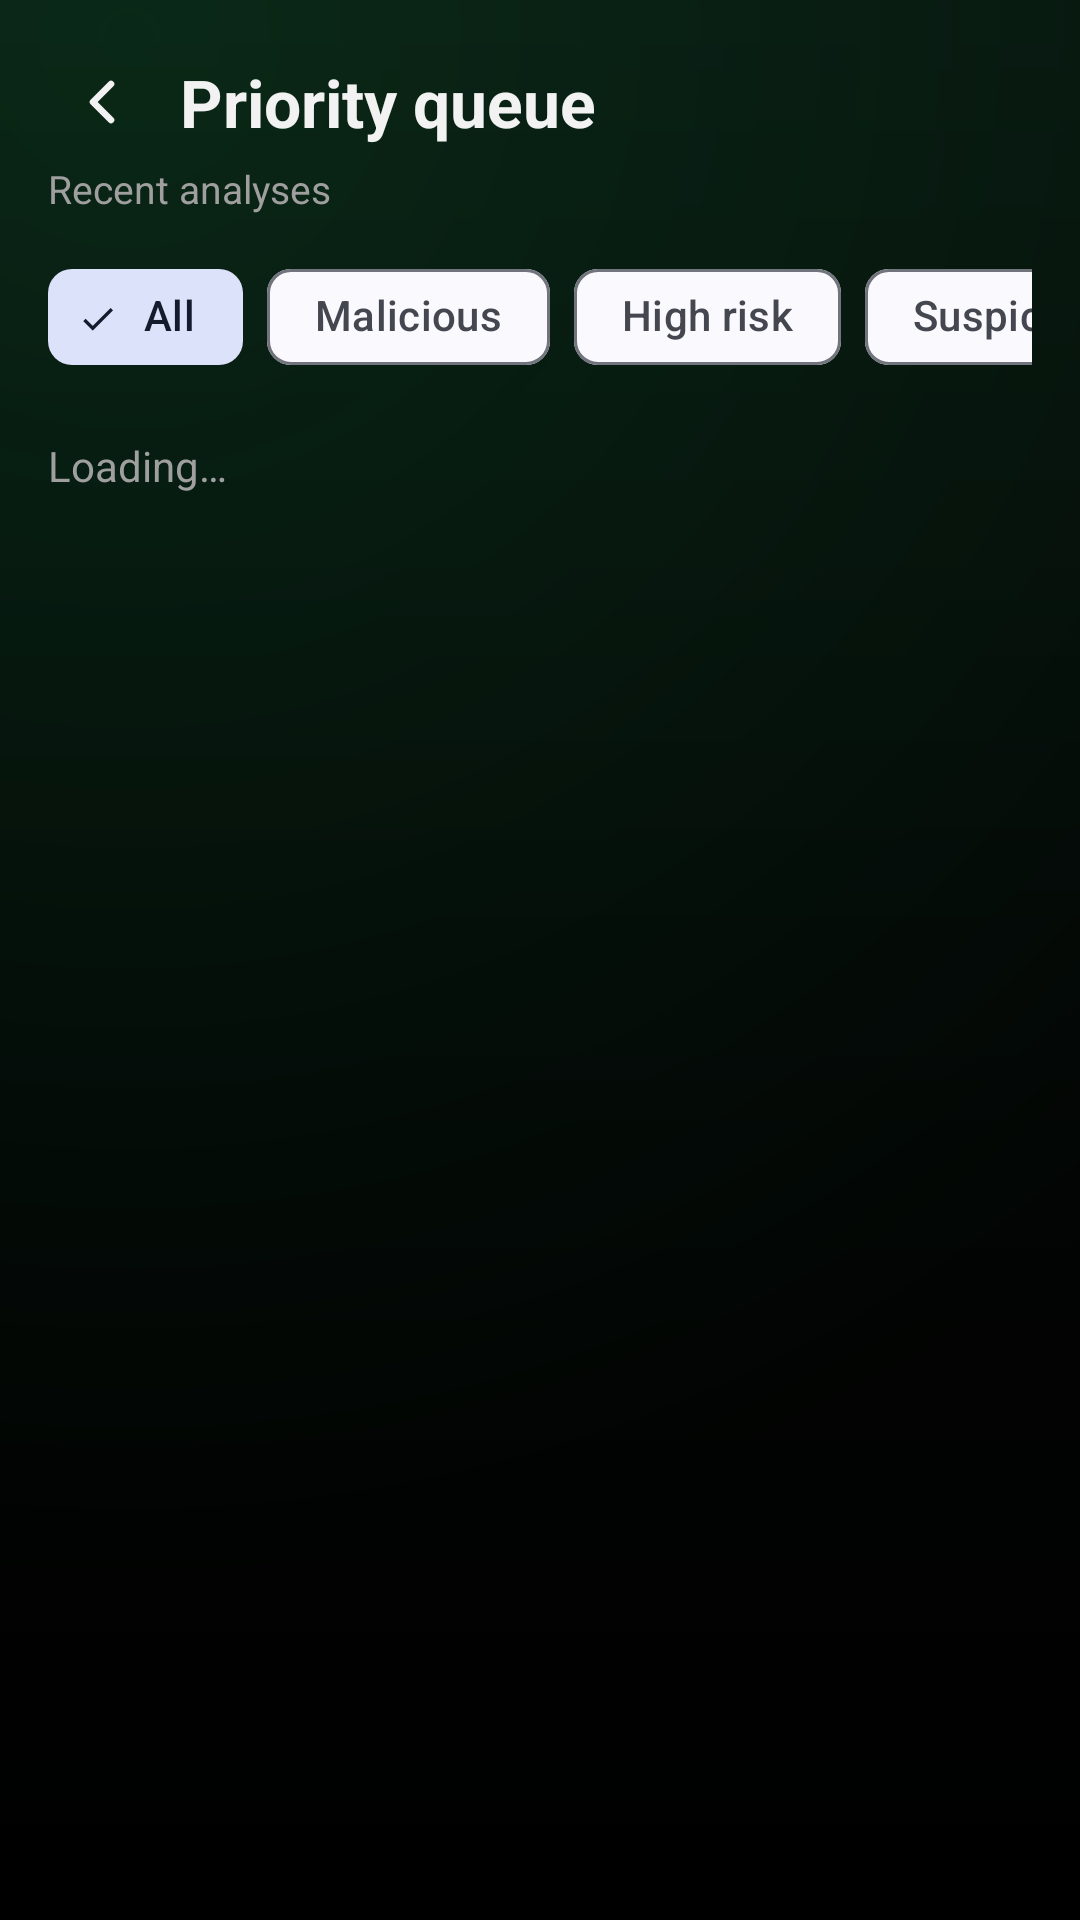

Where to tap for icons on this 1080×1920 app screen, as [x,y]:
Back: [102,102]
